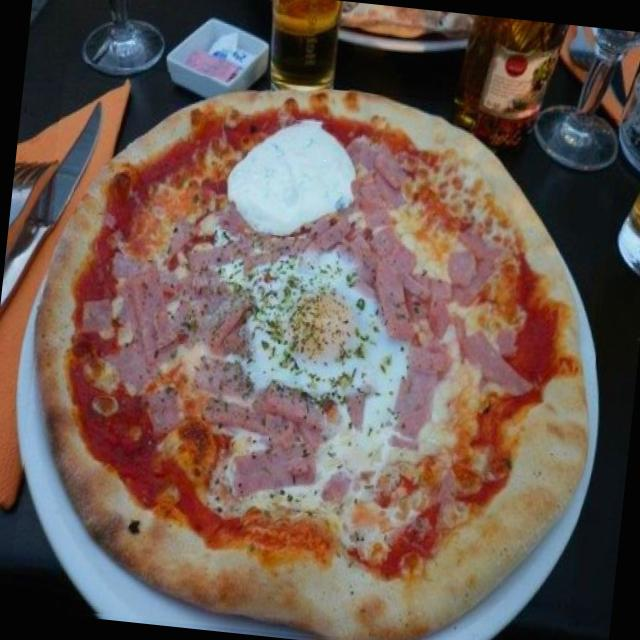cheese: (212, 114, 361, 242)
pizza: (35, 93, 585, 639)
